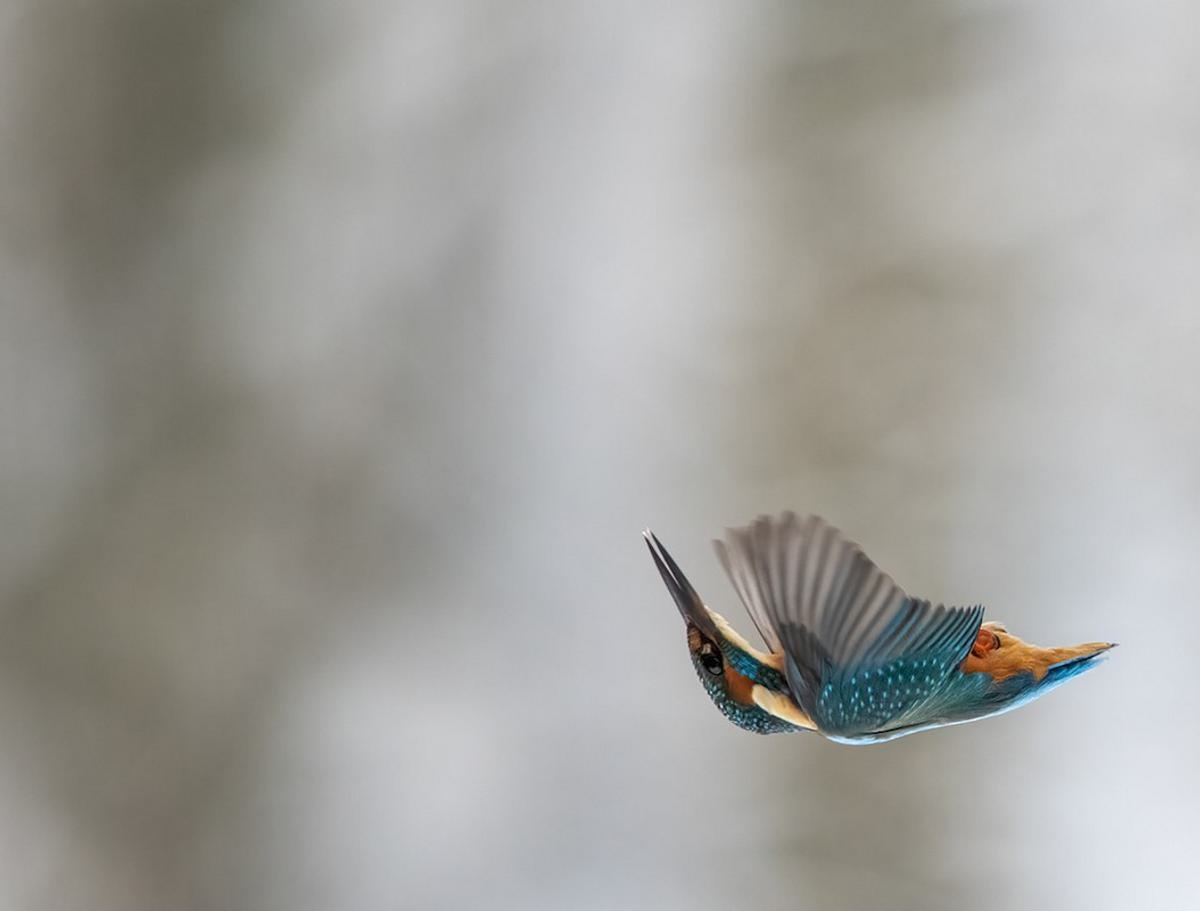kingfisher: (620, 488, 1141, 775)
